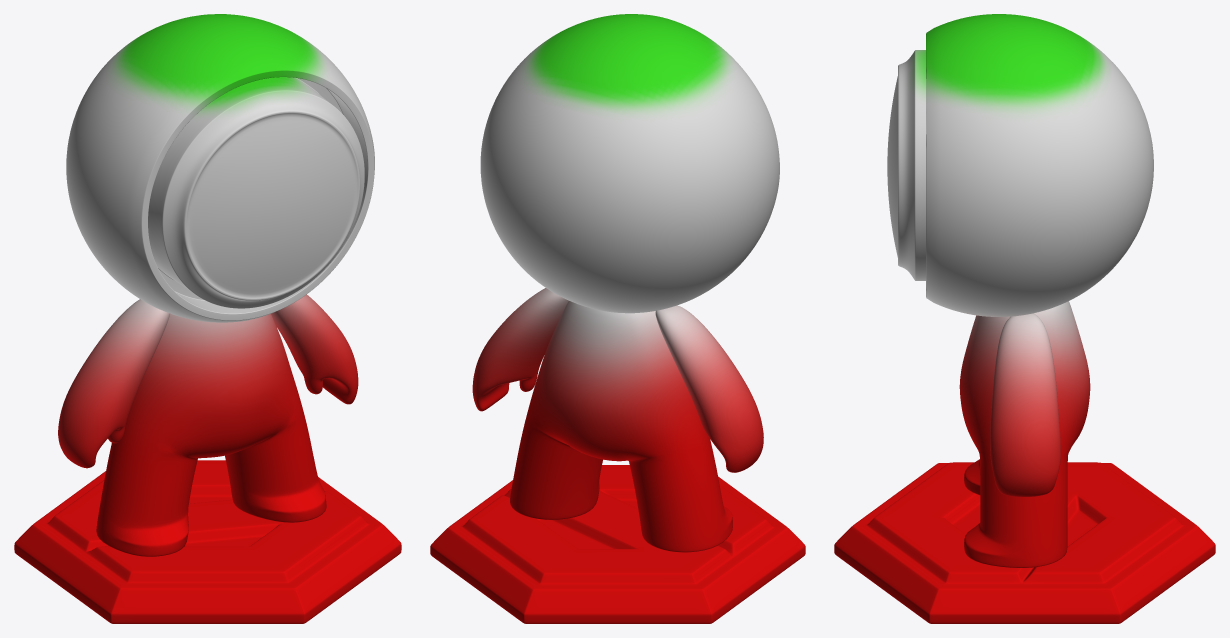
3 renders of one model, left to right at view 1: azimuth 30°, elevation 25°; view 2: azimuth 150°, elevation 25°; view 3: azimuth 270°, elevation 25°, orthographic. The views are drawn at different scales.
Visible parts, largest first — view 1: Mesh_03_Base; view 2: Mesh_03_Base; view 3: Mesh_03_Base.
Boxes of the visible parts, x1=… form: Mesh_03_Base: x1=14, y1=14, x2=401, y2=623; Mesh_03_Base: x1=430, y1=14, x2=805, y2=623; Mesh_03_Base: x1=834, y1=14, x2=1215, y2=623.
Size of the model in its own units: 8.25 by 14.46 by 9.49.
